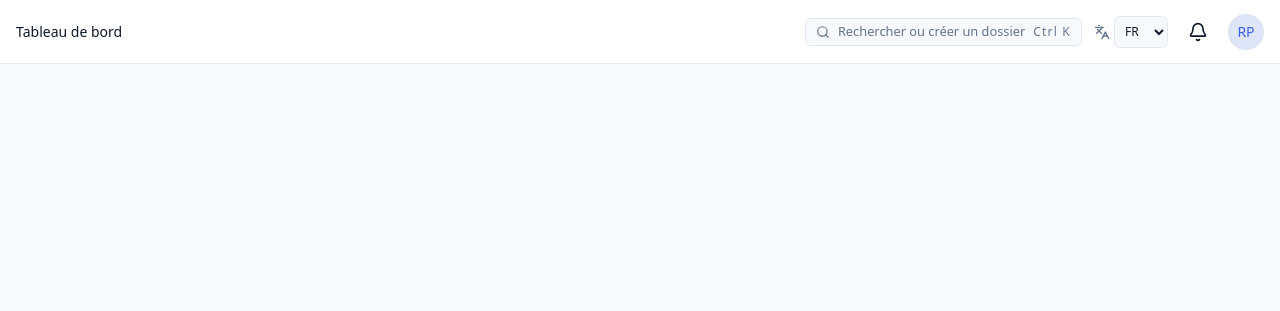
Scenario: Navbar › connects the session user to the user badge dropdown
The width and height of the screenshot is (1280, 311).
Click the button with test id "navbar-user-menu".
click(1246, 32)  # box [1228, 14, 1264, 50]
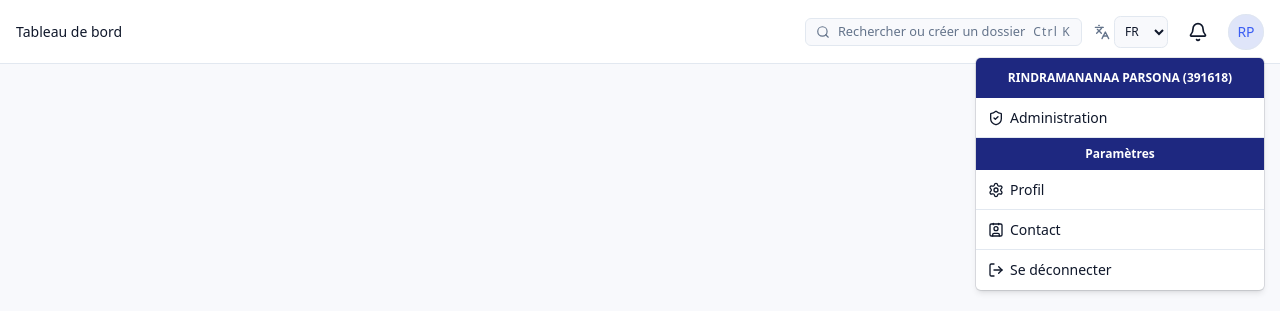
Check: the text "RINDRAMANANAA PARSONA (391618)" is shown, box [976, 58, 1264, 98]
Check: the menu item with test id "navbar-menu-administration" is shown, box [976, 98, 1264, 138]
